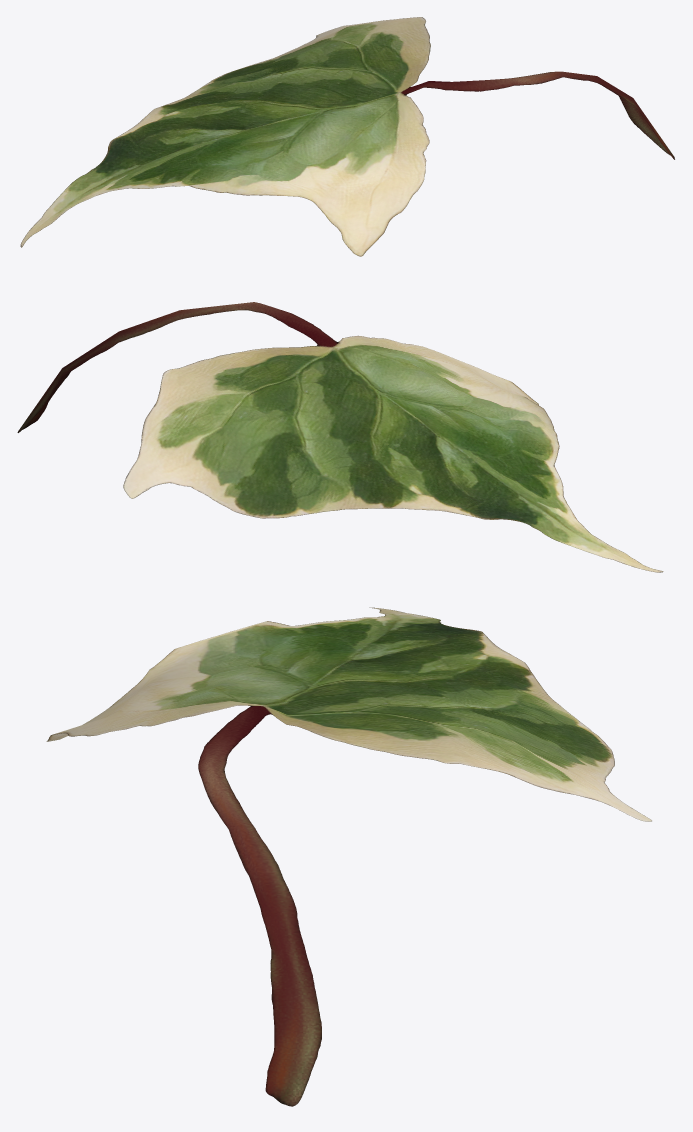
File: hedraleave1.fbx
The picture shows the model from 3 angles, top to bottom: view 1: azimuth 30°, elevation 25°; view 2: azimuth 150°, elevation 25°; view 3: azimuth 270°, elevation 25°; orthographic projection. The views are drawn at different scales.
Parts seen in each view (by area): view 1: hedraleave1; view 2: hedraleave1; view 3: hedraleave1.
Boxes of the visible parts, box(x1,y1,x2,y2) form: hedraleave1: box(20, 17, 674, 256); hedraleave1: box(17, 302, 663, 572); hedraleave1: box(46, 607, 651, 1106).
Bounding box in the file's own units: 0.9822 × 0.227 × 0.6196.
